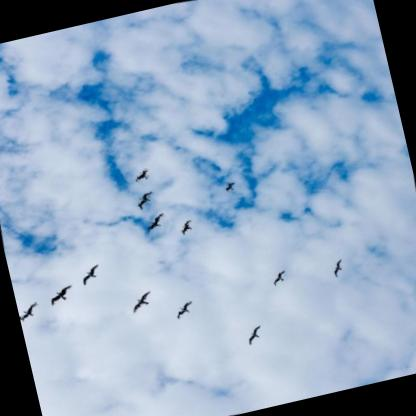bird: (46, 280, 77, 308), (126, 288, 155, 315), (142, 211, 171, 235), (17, 301, 42, 327), (79, 262, 103, 288), (173, 298, 197, 323), (133, 189, 158, 211), (243, 323, 265, 347), (271, 266, 291, 287), (132, 164, 151, 184), (178, 217, 198, 236), (330, 256, 347, 278), (223, 179, 239, 195)
